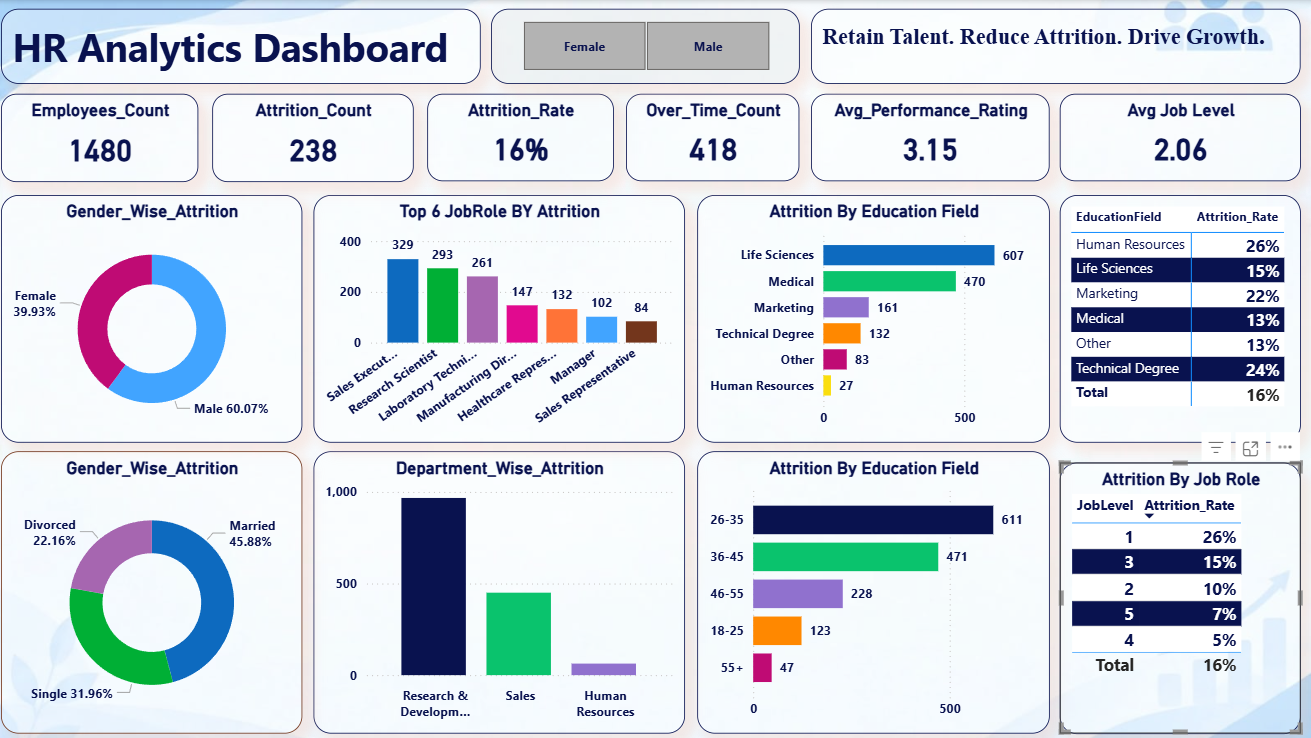

Layout of this report page (visuals, bound fields, positions):
{"tool":"powerbi","page":{"name":"Page 1","canvas":[1280,719],"ordinal":0},"visuals":[{"type":"textbox","box":[10.2,9.1,465,72.6],"z":0},{"type":"card","title":"Employees_Count","fields":{"Values":["Sum(HR_Analytics.EmployeeCount)"]},"box":[9.7,90.8,191.4,86],"z":1000},{"type":"clusteredColumnChart","title":"Department_Wise_Attrition","fields":{"Category":["HR_Analytics.Department"],"Y":["CountNonNull(HR_Analytics.Attrition)"]},"box":[312.5,437.2,359.7,273.7],"z":2000},{"type":"donutChart","title":"Gender_Wise_Attrition","fields":{"Y":["CountNonNull(HR_Analytics.Attrition)"],"Category":["HR_Analytics.Gender"]},"box":[9.7,188.9,291.9,239.8],"z":3000},{"type":"clusteredColumnChart","title":"Top 6  JobRole BY Attrition","fields":{"Category":["HR_Analytics.JobRole"],"Y":["CountNonNull(HR_Analytics.Attrition)"]},"box":[312.5,188.9,359.7,239.8],"z":4000},{"type":"clusteredBarChart","title":"Attrition By Education Field","fields":{"Category":["HR_Analytics.EducationField"],"Y":["CountNonNull(HR_Analytics.Attrition)"]},"box":[684.3,188.9,341.6,239.8],"z":5000},{"type":"clusteredBarChart","title":"Attrition By Education Field","fields":{"Y":["CountNonNull(HR_Analytics.Attrition)"],"Category":["HR_Analytics.AgeGroup"]},"box":[684.3,437.2,341.6,273.7],"z":6000},{"type":"donutChart","title":"Gender_Wise_Attrition","fields":{"Category":["HR_Analytics.MaritalStatus"],"Y":["CountNonNull(HR_Analytics.Attrition)"]},"box":[9.7,437.2,291.9,273.7],"z":7000},{"type":"card","title":"Attrition_Count","fields":{"Values":["Sum(HR_Analytics.Attrition Flag)"]},"box":[214.4,90.8,195,86],"z":8000},{"type":"card","title":"Attrition_Rate","fields":{"Values":["HR_Analytics.Attrition_Rate"]},"box":[422.7,90.8,180.5,84.8],"z":9000},{"type":"card","title":"Over_Time_Count","fields":{"Values":["Sum(HR_Analytics.Over_Time_Flag)"]},"box":[615.3,90.8,168.4,84.8],"z":10000},{"type":"card","title":"Avg_Performance_Rating","fields":{"Values":["Avg(HR_Analytics.PerformanceRating)"]},"box":[794.6,90.8,231.3,84.8],"z":11000},{"type":"slicer","fields":{"Values":["HR_Analytics.Gender"]},"box":[484.5,8.5,299.2,72.7],"z":12000},{"type":"textbox","box":[794.6,8.5,474.8,72.7],"z":13000},{"type":"card","title":"Avg Job Level","fields":{"Values":["Avg(HR_Analytics.JobLevel)"]},"box":[1035.6,90.8,233.8,84.8],"z":14000},{"type":"pivotTable","fields":{"Rows":["HR_Analytics.EducationField"],"Values":["HR_Analytics.Attrition_Rate"]},"box":[1035.6,188.9,233.8,239.8],"z":15000},{"type":"tableEx","title":"Attrition By Job Role","fields":{"Values":["HR_Analytics.JobLevel","HR_Analytics.Attrition_Rate"]},"box":[1035.6,448.1,233.8,262.8],"z":15001}]}

Visuals, with their boxes in screenshot pixels (x1, y1, x2, y2), scaled from the page's 1280x719 canvas onto the 1311x738 screenshot:
textbox: x1=10 y1=9 x2=487 y2=84
"Employees_Count" card: x1=10 y1=93 x2=206 y2=181
"Department_Wise_Attrition" clusteredColumnChart: x1=320 y1=449 x2=688 y2=730
"Gender_Wise_Attrition" donutChart: x1=10 y1=194 x2=309 y2=440
"Top 6  JobRole BY Attrition" clusteredColumnChart: x1=320 y1=194 x2=688 y2=440
"Attrition By Education Field" clusteredBarChart: x1=701 y1=194 x2=1051 y2=440
"Attrition By Education Field" clusteredBarChart: x1=701 y1=449 x2=1051 y2=730
"Gender_Wise_Attrition" donutChart: x1=10 y1=449 x2=309 y2=730
"Attrition_Count" card: x1=220 y1=93 x2=419 y2=181
"Attrition_Rate" card: x1=433 y1=93 x2=618 y2=180
"Over_Time_Count" card: x1=630 y1=93 x2=803 y2=180
"Avg_Performance_Rating" card: x1=814 y1=93 x2=1051 y2=180
slicer - HR_Analytics.Gender: x1=496 y1=9 x2=803 y2=83
textbox: x1=814 y1=9 x2=1300 y2=83
"Avg Job Level" card: x1=1061 y1=93 x2=1300 y2=180
pivotTable - HR_Analytics.EducationField x HR_Analytics.Attrition_Rate: x1=1061 y1=194 x2=1300 y2=440
"Attrition By Job Role" tableEx: x1=1061 y1=460 x2=1300 y2=730
